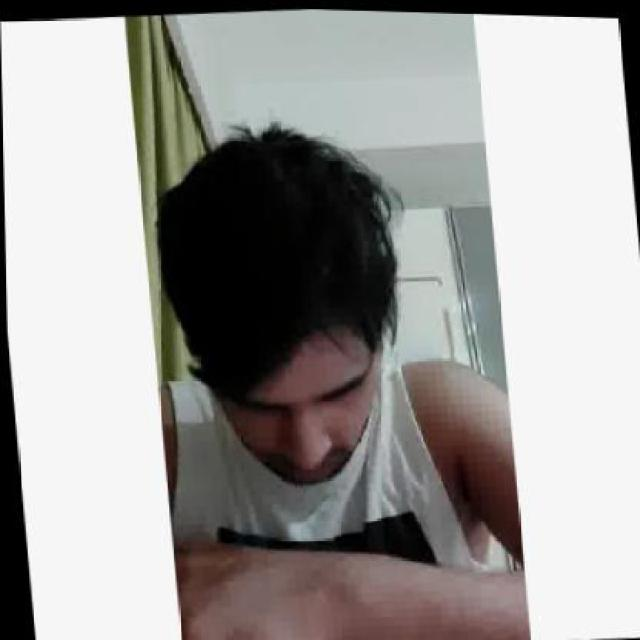inattentif: (151, 116, 398, 498)
